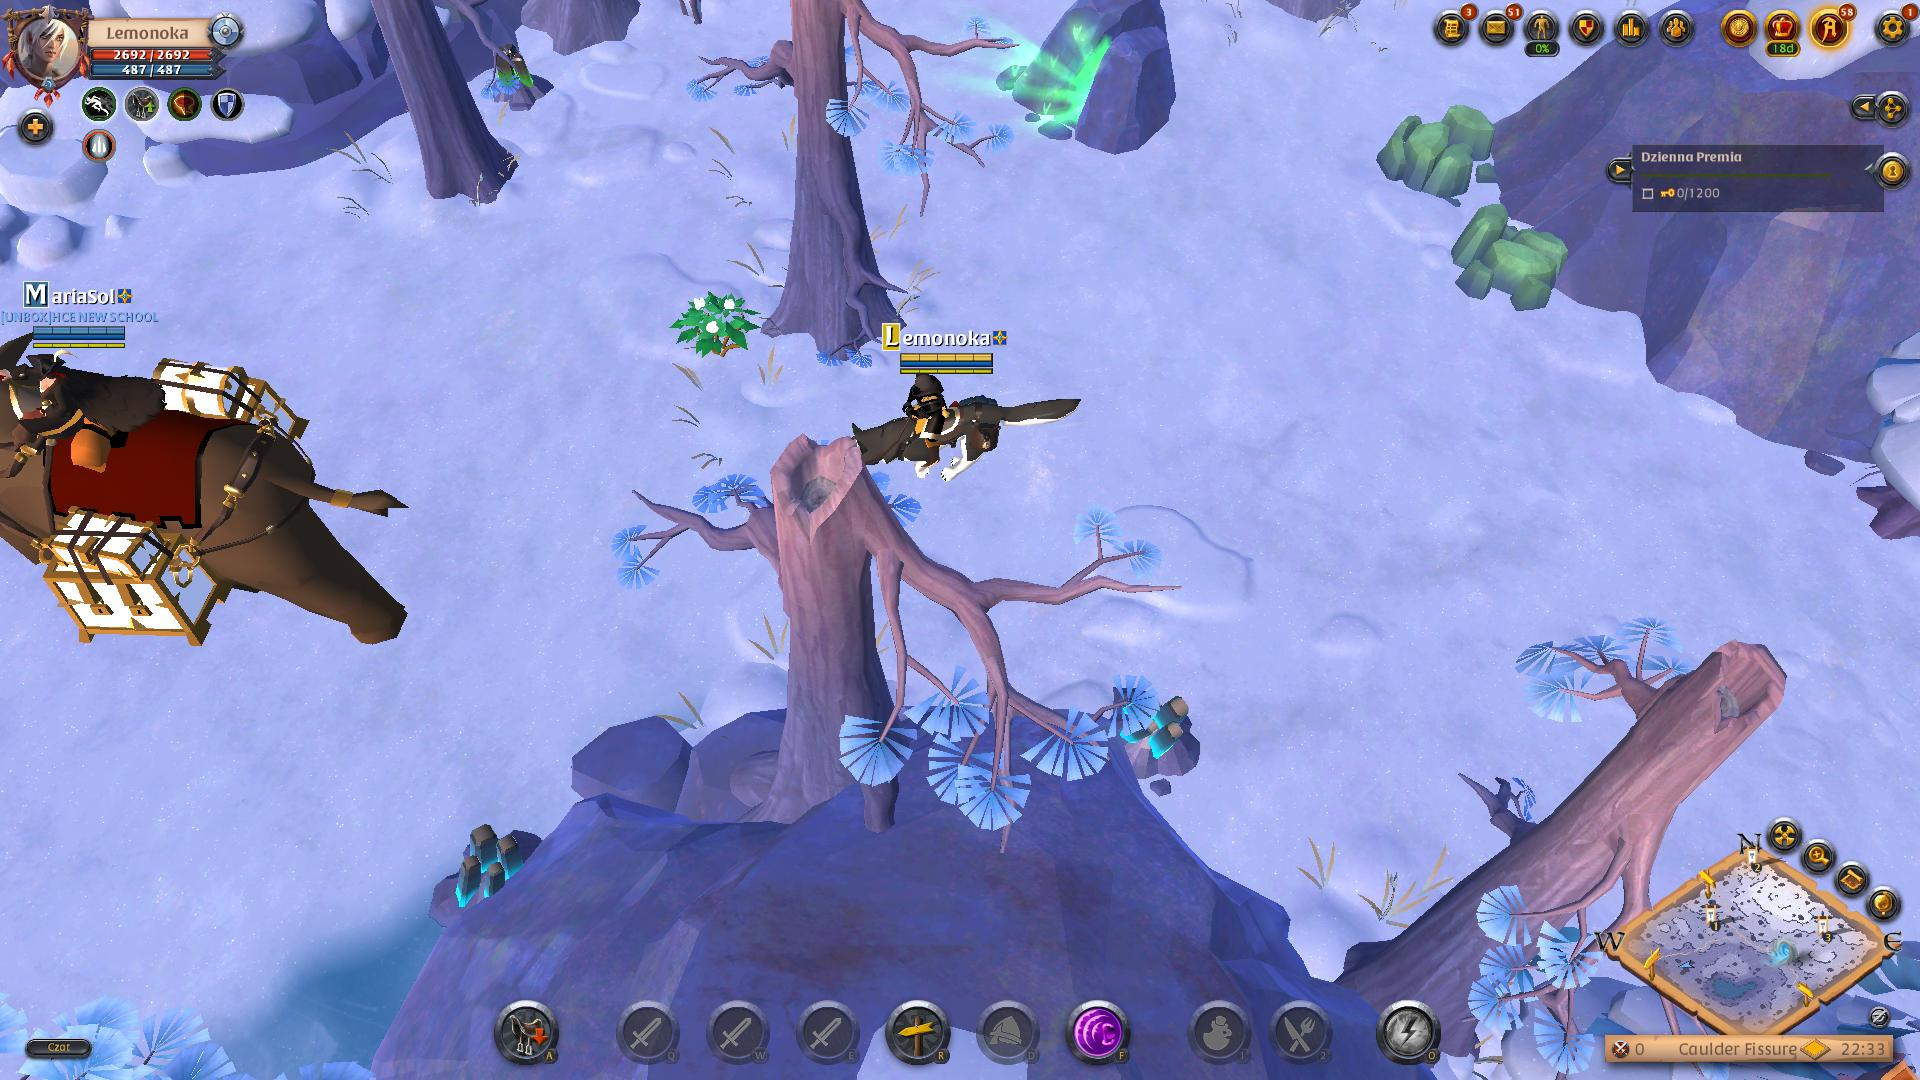fiber tier 3: (663, 285, 760, 359)
ore tier 4: (430, 812, 533, 916)
rock tier 3: (1448, 198, 1568, 315), (1377, 96, 1499, 208)
